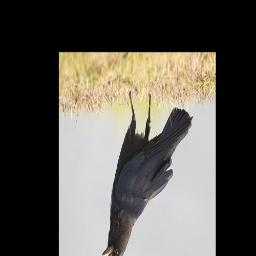Crow: (101, 90, 193, 256)
